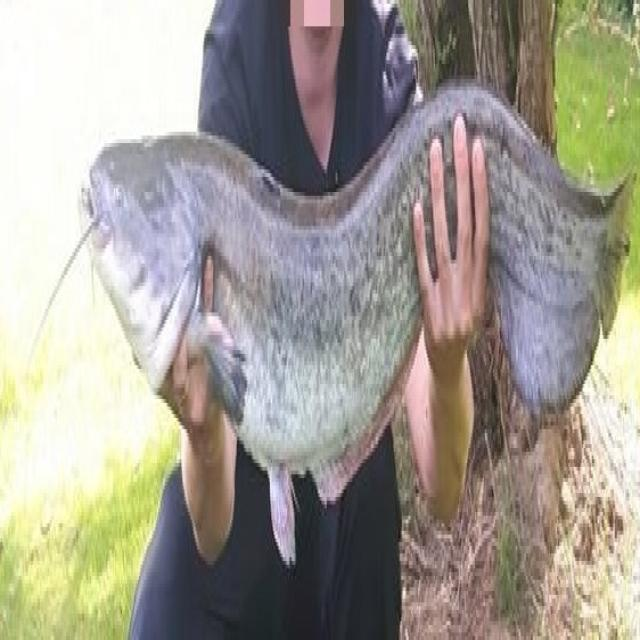Catfish: (60, 106, 633, 616)
